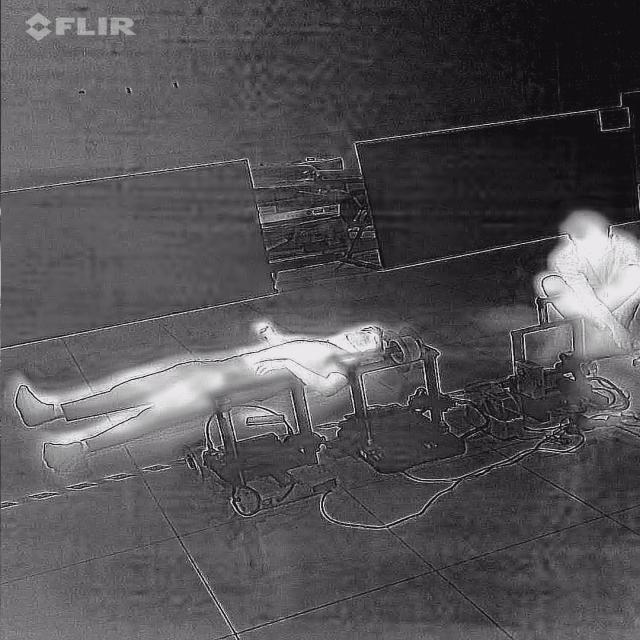Victim: (13, 319, 404, 472), (532, 200, 640, 370)
